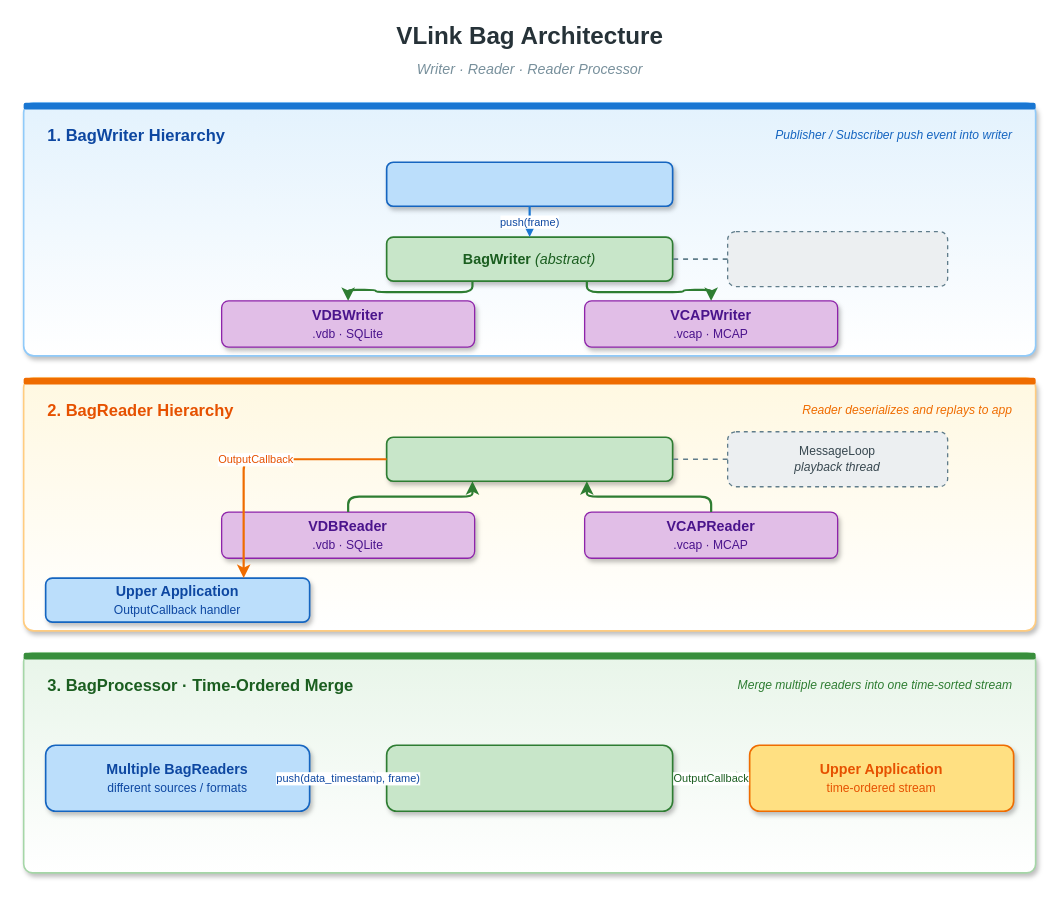
Some shapes in this 1063 by 900 pixel diagram are drawn without their labels. The shapes that lost their labels are listed below. From the top down, each one's centre as x and y in pixels, then its label:
point (530, 185): Publisher / Subscriber
point (837, 258): MessageLoop async write thread
point (530, 460): BagReader (abstract)
point (530, 779): BagProcessor time-sorted buffer
